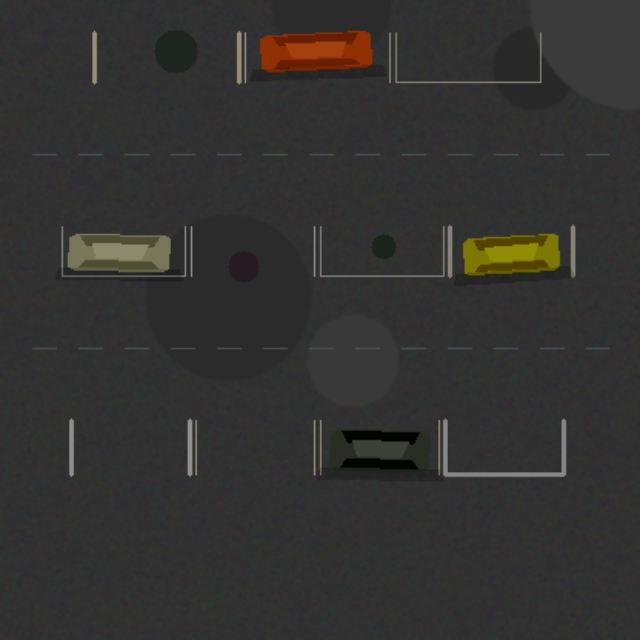space-empty: (395, 32, 540, 82), (94, 32, 238, 82), (195, 420, 314, 474), (71, 420, 189, 474), (445, 420, 563, 474), (191, 226, 314, 275), (320, 226, 443, 275)
space-occupied: (245, 32, 389, 82), (320, 420, 438, 474), (62, 226, 185, 275), (449, 226, 572, 275)
